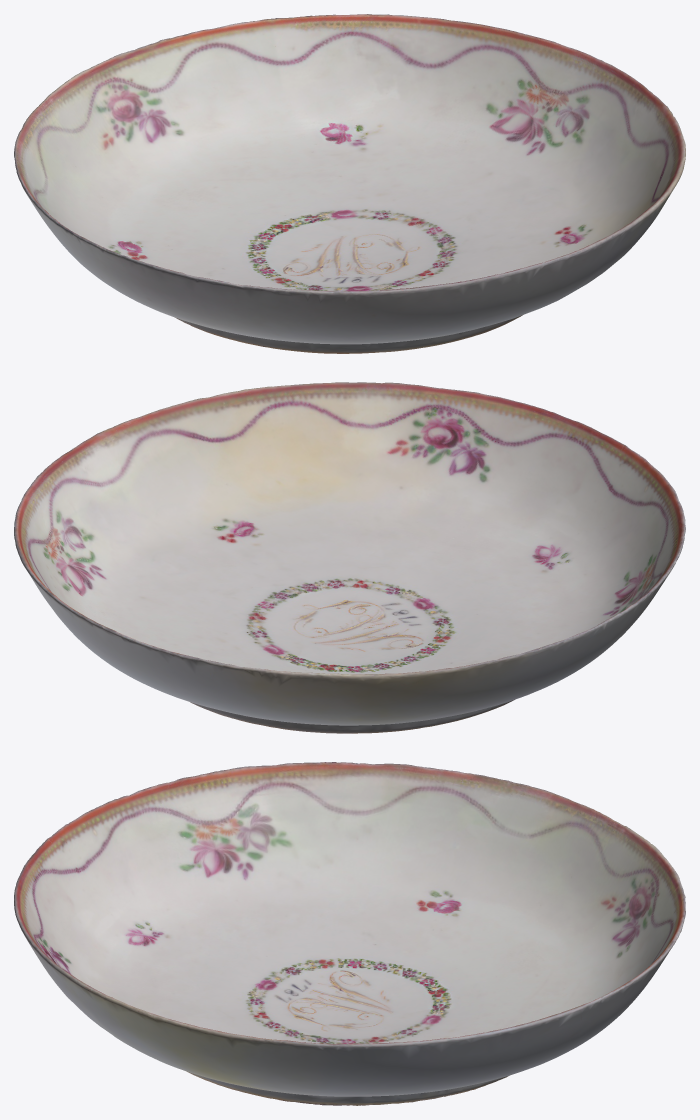
The model's file is 彩花卉纹描金徽章碟.glb.
3 renders of one model, top to bottom at view 1: azimuth 30°, elevation 25°; view 2: azimuth 150°, elevation 25°; view 3: azimuth 270°, elevation 25°, orthographic.
Parts seen in each view (by area): view 1: default; view 2: default; view 3: default.
Boxes of the visible parts, x1,y1,x2,y2 form: default: (14,14,685,353); default: (14,382,685,733); default: (14,762,685,1105).
Size of the model in its own units: 387 by 77.96 by 387.
1 material, 1 textured.
